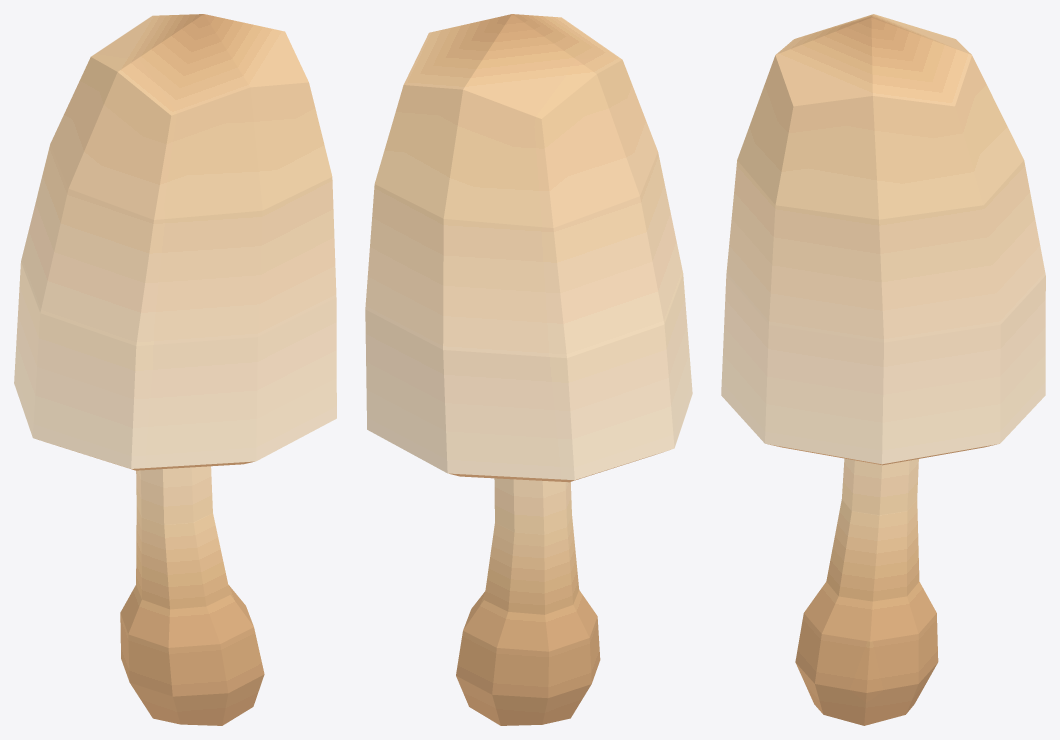
Rendered from YoungInk_InkCap.glb.
3 renders of one model, left to right at view 1: azimuth 30°, elevation 25°; view 2: azimuth 150°, elevation 25°; view 3: azimuth 270°, elevation 25°, orthographic.
Visible parts, largest first — view 1: ink_young; view 2: ink_young; view 3: ink_young.
Part boxes in pixels (left/top/right/bottom): ink_young: left=14, top=14, right=336, bottom=725; ink_young: left=365, top=14, right=692, bottom=725; ink_young: left=721, top=14, right=1045, bottom=725.
Bounding box in the file's own units: 3 × 7.09 × 2.95.
Materials: 1 (1 with a texture image).
